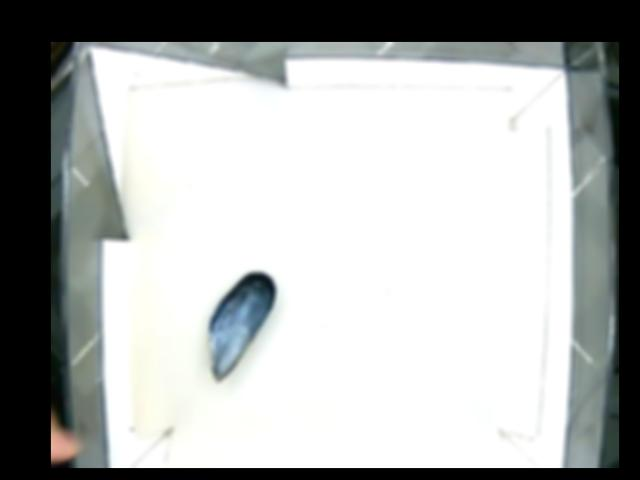Shell: (206, 267, 278, 381)
